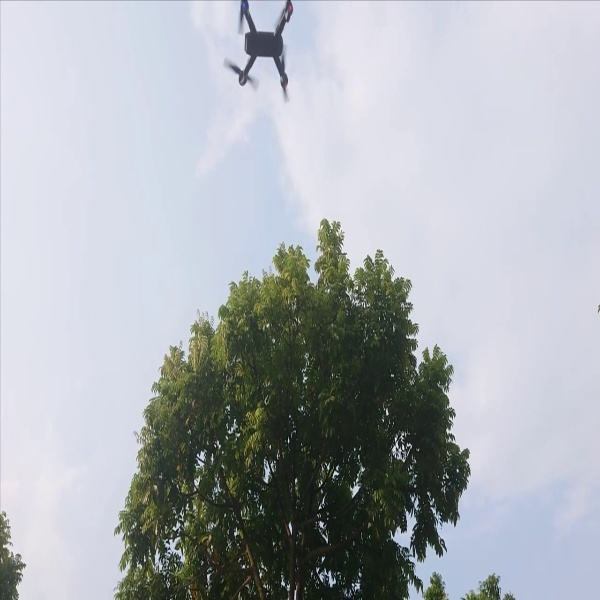drone: (218, 1, 304, 110)
